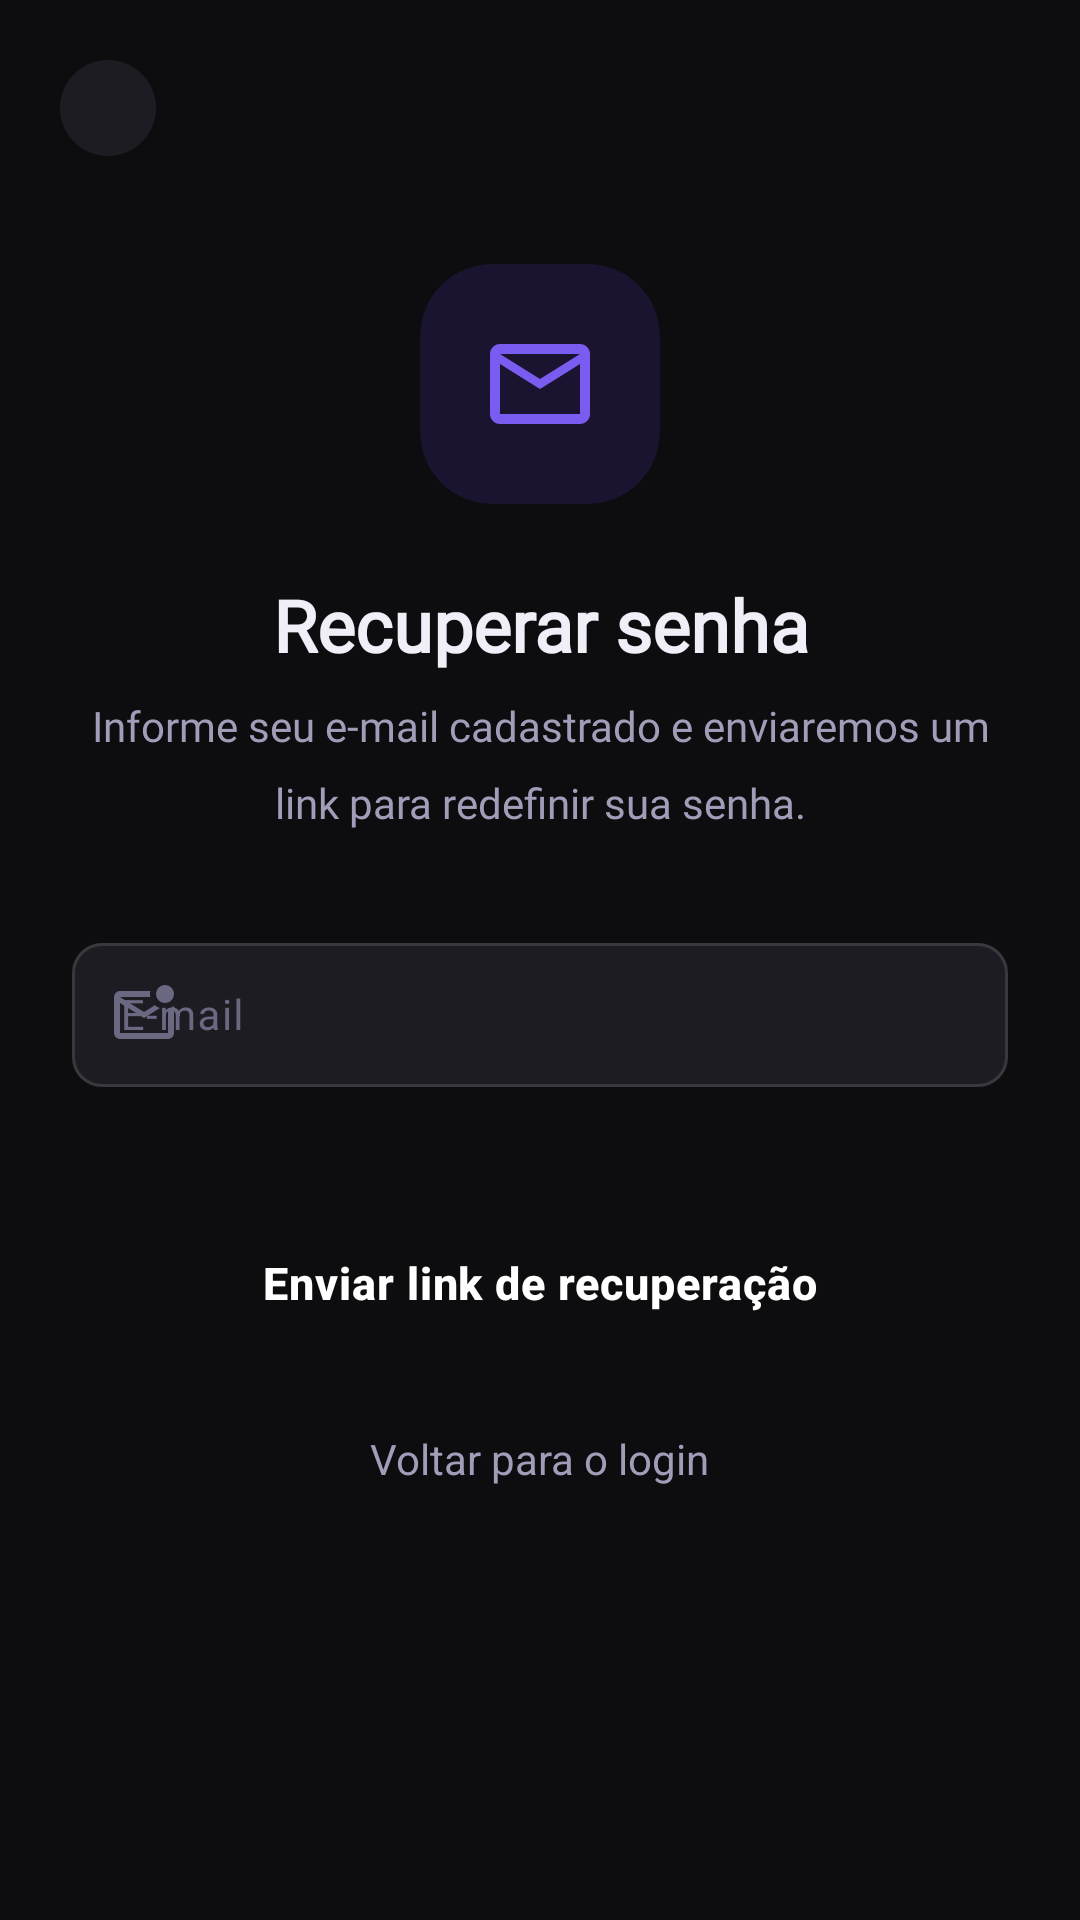

Icons on this 1080w x 1920h Android screen, each with the point to tap as point (x, y):
email: point (540, 384)
